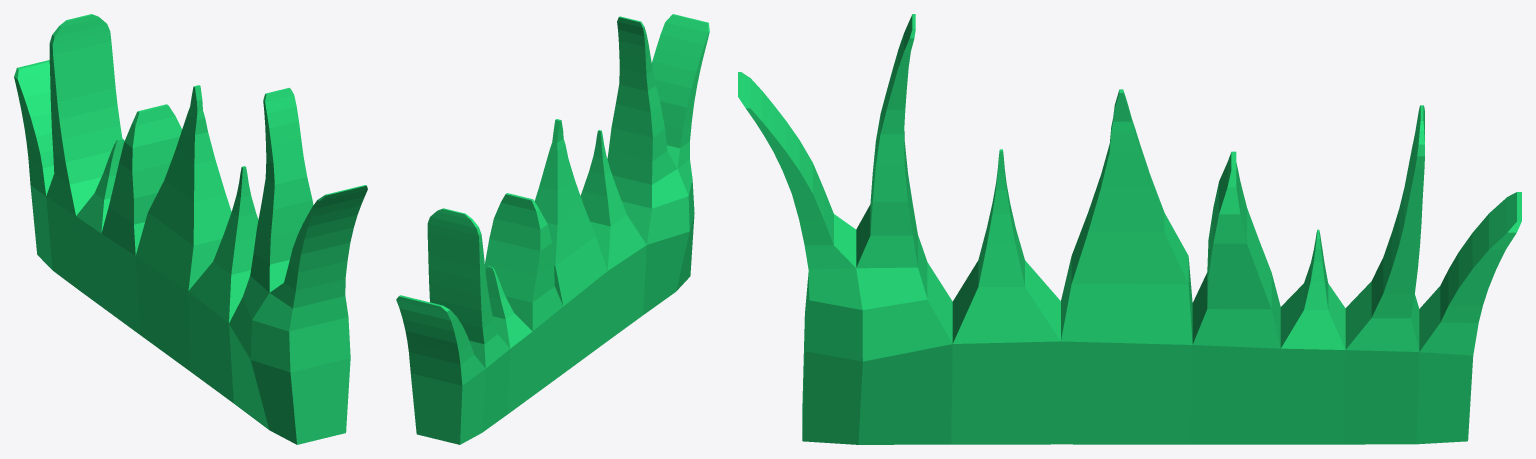
File: grama2.fbx
3 renders of one model, left to right at view 1: azimuth 30°, elevation 25°; view 2: azimuth 150°, elevation 25°; view 3: azimuth 270°, elevation 25°, orthographic. The views are drawn at different scales.
Parts seen in each view (by area): view 1: Cubo; view 2: Cubo; view 3: Cubo.
Part boxes in pixels (left/top/right/bottom): Cubo: left=14, top=14, right=367, bottom=444; Cubo: left=396, top=14, right=709, bottom=444; Cubo: left=738, top=14, right=1521, bottom=444.
Bounding box in the file's own units: 19.55 × 62.49 × 110.
